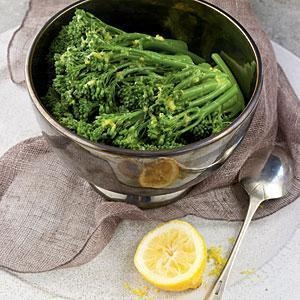background: (19, 3, 114, 72), (36, 35, 98, 137)
